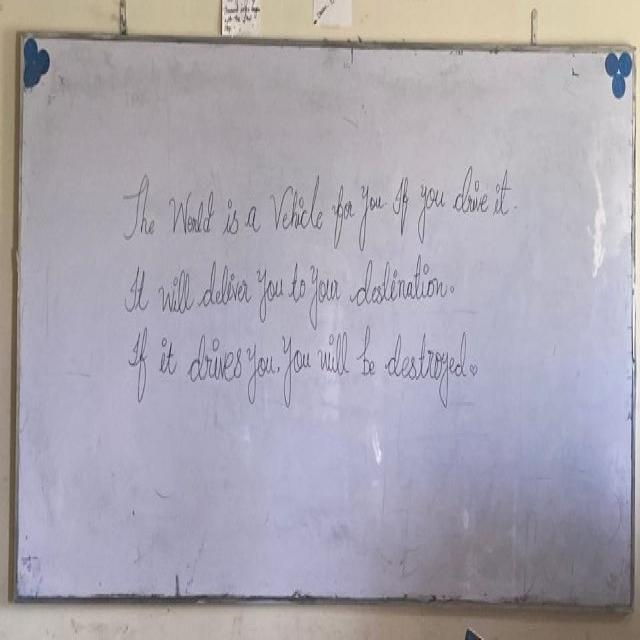White-board: (21, 37, 629, 620)
